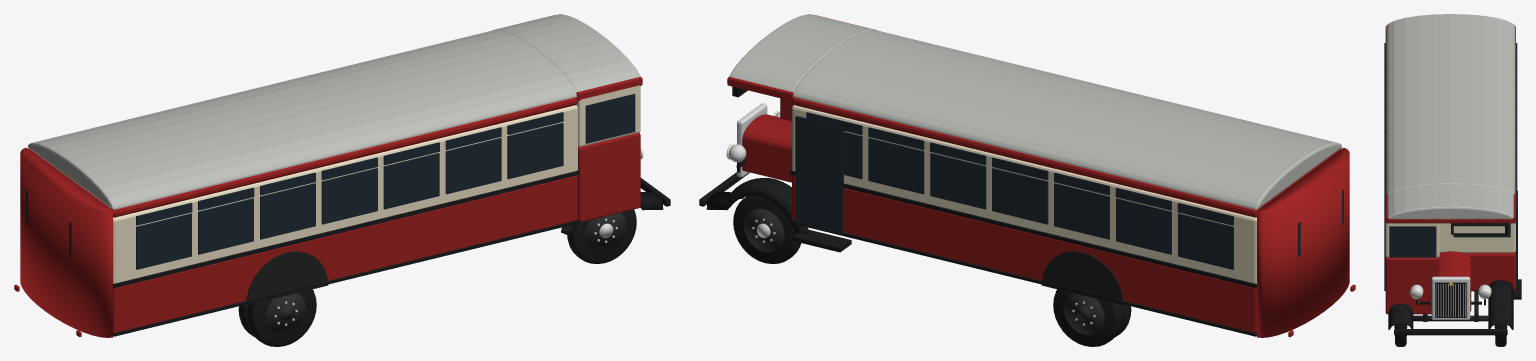
File: mps_regal_bus.glb
3 renders of one model, left to right at view 1: azimuth 30°, elevation 25°; view 2: azimuth 150°, elevation 25°; view 3: azimuth 270°, elevation 25°, orthographic. The views are drawn at different scales.
Parts seen in each view (by area): view 1: teto, painel_inferior, traseira, faixa_janelas, teto_cabine, cabine_motorista, faixa_superior, caixa_roda.001, janela.010, janela.011, janela.012, janela.013 (+20 smaller); view 2: teto, painel_inferior, traseira, faixa_janelas, teto_cabine, porta, faixa_superior, capo, caixa_roda, janela.003, janela.004, janela.005 (+20 smaller); view 3: teto, teto_cabine, cabine_motorista, parabrisa_motorista, faixa_janelas, painel_inferior, paralama_d, radiador_colmeia, capo, faixa_sup_cabine, para_choque, radiador_moldura (+12 smaller).
Part boxes in pixels (<box>): teto: <box>28,29,576,209</box>; painel_inferior: <box>113,175,577,332</box>; traseira: <box>20,147,112,337</box>; faixa_janelas: <box>113,105,577,283</box>; teto_cabine: <box>497,14,640,91</box>; cabine_motorista: <box>578,132,640,222</box>; faixa_superior: <box>28,97,577,217</box>; caixa_roda.001: <box>246,251,328,305</box>; janela.010: <box>321,168,377,224</box>; janela.011: <box>383,153,439,209</box>; janela.012: <box>445,138,501,194</box>; janela.013: <box>507,122,563,179</box>; teto: <box>793,29,1341,209</box>; painel_inferior: <box>792,175,1256,332</box>; traseira: <box>1257,147,1349,337</box>; faixa_janelas: <box>792,105,1256,283</box>; teto_cabine: <box>729,14,872,91</box>; porta: <box>795,115,843,234</box>; faixa_superior: <box>792,97,1341,217</box>; capo: <box>742,114,791,182</box>; caixa_roda: <box>1041,251,1123,305</box>; janela.003: <box>992,168,1048,224</box>; janela.004: <box>930,153,986,209</box>; janela.005: <box>868,138,924,194</box>; teto: <box>1386,14,1515,193</box>; teto_cabine: <box>1388,184,1513,219</box>; cabine_motorista: <box>1385,256,1439,314</box>; parabrisa_motorista: <box>1389,226,1436,257</box>; faixa_janelas: <box>1439,223,1515,252</box>; painel_inferior: <box>1463,252,1515,291</box>; paralama_d: <box>1488,280,1513,329</box>; radiador_colmeia: <box>1435,282,1466,317</box>; capo: <box>1430,251,1471,311</box>; faixa_sup_cabine: <box>1385,194,1515,223</box>; para_choque: <box>1394,329,1507,335</box>; radiador_moldura: <box>1431,276,1470,319</box>.
Bounding box in the file's own units: 8.96 × 2.88 × 2.41.
